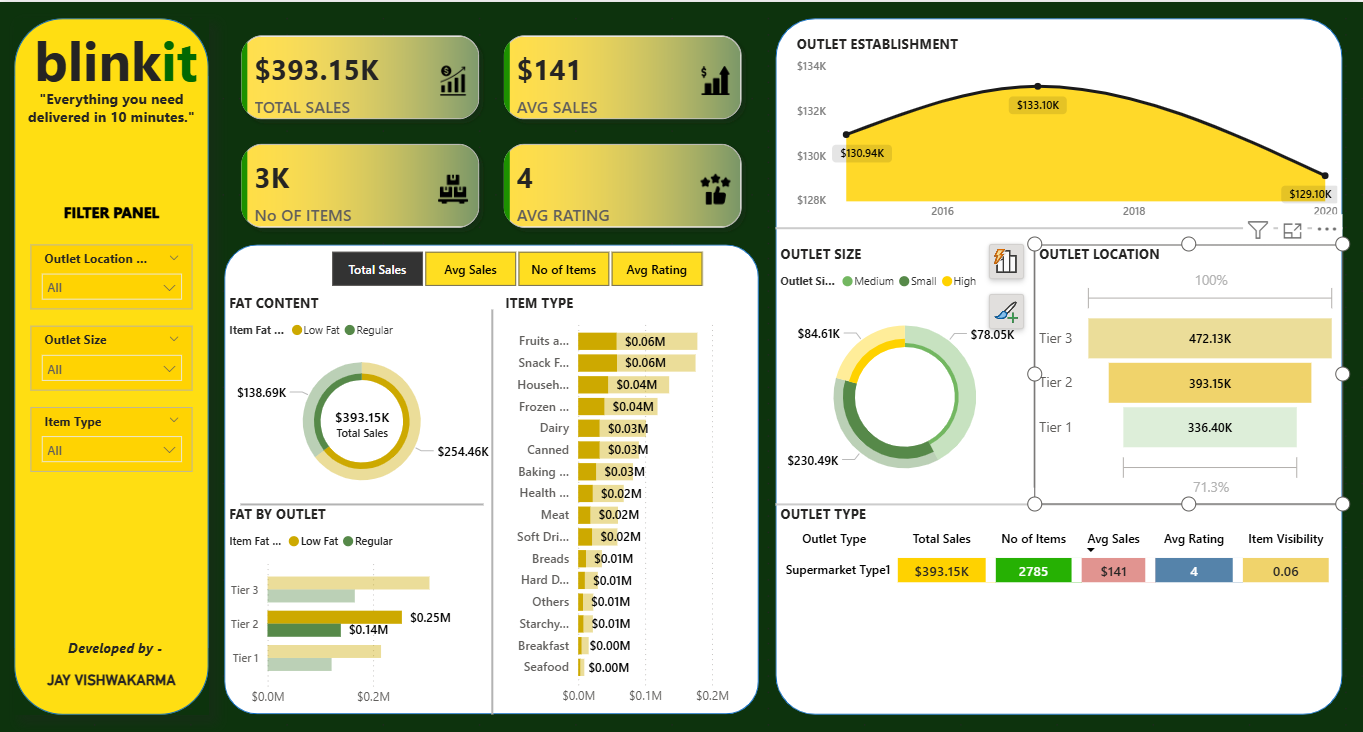

The page's visual inventory and layout, read from the dashboard file:
{"tool":"powerbi","page":{"name":"Page 1","canvas":[1350,726],"ordinal":0},"visuals":[{"type":"shape","box":[16,16,192,688],"z":0},{"type":"textbox","box":[16,16,192,144],"z":1000},{"type":"textbox","box":[16,80,192,128],"z":2000},{"type":"cardVisual","fields":{"Data":["BlinkIT Grocery Data.Total Sales","BlinkIT Grocery Data.Avg Sales","BlinkIT Grocery Data.No of Items","BlinkIT Grocery Data.Avg Rating"]},"box":[224,16,528,224],"z":3000},{"type":"shape","box":[224,240,528,464],"z":4000},{"type":"donutChart","title":"FAT CONTENT","fields":{"Y":["BlinkIT Grocery Data.Total Sales"],"Category":["BlinkIT Grocery Data.Item Fat Content"]},"box":[224,288,272,208],"z":5000},{"type":"slicer","fields":{"Values":["Metrics.Metrics"]},"box":[304,240,416,48],"z":6000},{"type":"cardVisual","fields":{"Data":["BlinkIT Grocery Data.Total Sales"]},"box":[304,384,112,64],"z":7000},{"type":"clusteredBarChart","title":"FAT BY OUTLET","fields":{"Y":["BlinkIT Grocery Data.Total Sales"],"Category":["BlinkIT Grocery Data.Outlet Location Type"],"Series":["BlinkIT Grocery Data.Item Fat Content"]},"box":[224,496,272,208],"z":8000},{"type":"shape","box":[240,480,240,32],"z":9000},{"type":"shape","box":[464,304,48,400],"z":10000},{"type":"barChart","title":"ITEM TYPE","fields":{"Y":["BlinkIT Grocery Data.Total Sales"],"Category":["BlinkIT Grocery Data.Item Type"]},"box":[496,288,256,416],"z":11000},{"type":"shape","box":[768,16,560,688],"z":12000},{"type":"lineChart","title":"OUTLET ESTABLISHMENT","fields":{"Y":["BlinkIT Grocery Data.Total Sales"],"Category":["BlinkIT Grocery Data.Outlet Establishment Year"]},"box":[784,32,544,192],"z":13000},{"type":"donutChart","title":"OUTLET SIZE","fields":{"Y":["BlinkIT Grocery Data.Total Sales"],"Category":["BlinkIT Grocery Data.Outlet Size"]},"box":[768,240,256,256],"z":14000},{"type":"funnel","title":"OUTLET LOCATION","fields":{"Y":["Sum(BlinkIT Grocery Data.Sales)"],"Category":["BlinkIT Grocery Data.Outlet Location Type"]},"box":[1024,240,304,256],"z":15000},{"type":"pivotTable","title":"OUTLET TYPE","fields":{"Rows":["BlinkIT Grocery Data.Outlet Type"],"Values":["BlinkIT Grocery Data.Total Sales","BlinkIT Grocery Data.No of Items","BlinkIT Grocery Data.Avg Sales","BlinkIT Grocery Data.Avg Rating","Avg(BlinkIT Grocery Data.Item Visibility)"]},"box":[768,496,560,192],"z":16000},{"type":"shape","box":[768,208,560,32],"z":17000},{"type":"shape","box":[1008,240,32,240],"z":18000},{"type":"shape","box":[768,464,560,64],"z":19000},{"type":"slicer","fields":{"Values":["BlinkIT Grocery Data.Outlet Location Type"]},"box":[32,240,160,64],"z":20000},{"type":"slicer","fields":{"Values":["BlinkIT Grocery Data.Outlet Size"]},"box":[32,320,160,64],"z":21000},{"type":"slicer","fields":{"Values":["BlinkIT Grocery Data.Item Type"]},"box":[32,400,160,64],"z":22000},{"type":"textbox","box":[32,192,160,32],"z":23000},{"type":"textbox","box":[64,624,112,32],"z":24000},{"type":"textbox","box":[16,656,192,32],"z":25000}]}

Visuals, with their boxes in screenshot pixels (x1, y1, x2, y2), scaled from the page's 1350x726 canvas onto the 1363x732 screenshot:
shape: select_region(16, 16, 210, 710)
textbox: select_region(16, 16, 210, 161)
textbox: select_region(16, 81, 210, 210)
cardVisual - BlinkIT Grocery Data.Total Sales x BlinkIT Grocery Data.Avg Sales: select_region(226, 16, 759, 242)
shape: select_region(226, 242, 759, 710)
"FAT CONTENT" donutChart: select_region(226, 290, 501, 500)
slicer - Metrics.Metrics: select_region(307, 242, 727, 290)
cardVisual - BlinkIT Grocery Data.Total Sales: select_region(307, 387, 420, 452)
"FAT BY OUTLET" clusteredBarChart: select_region(226, 500, 501, 710)
shape: select_region(242, 484, 485, 516)
shape: select_region(468, 307, 517, 710)
"ITEM TYPE" barChart: select_region(501, 290, 759, 710)
shape: select_region(775, 16, 1341, 710)
"OUTLET ESTABLISHMENT" lineChart: select_region(792, 32, 1341, 226)
"OUTLET SIZE" donutChart: select_region(775, 242, 1034, 500)
"OUTLET LOCATION" funnel: select_region(1034, 242, 1341, 500)
"OUTLET TYPE" pivotTable: select_region(775, 500, 1341, 694)
shape: select_region(775, 210, 1341, 242)
shape: select_region(1018, 242, 1050, 484)
shape: select_region(775, 468, 1341, 532)
slicer - BlinkIT Grocery Data.Outlet Location Type: select_region(32, 242, 194, 307)
slicer - BlinkIT Grocery Data.Outlet Size: select_region(32, 323, 194, 387)
slicer - BlinkIT Grocery Data.Item Type: select_region(32, 403, 194, 468)
textbox: select_region(32, 194, 194, 226)
textbox: select_region(65, 629, 178, 661)
textbox: select_region(16, 661, 210, 694)
